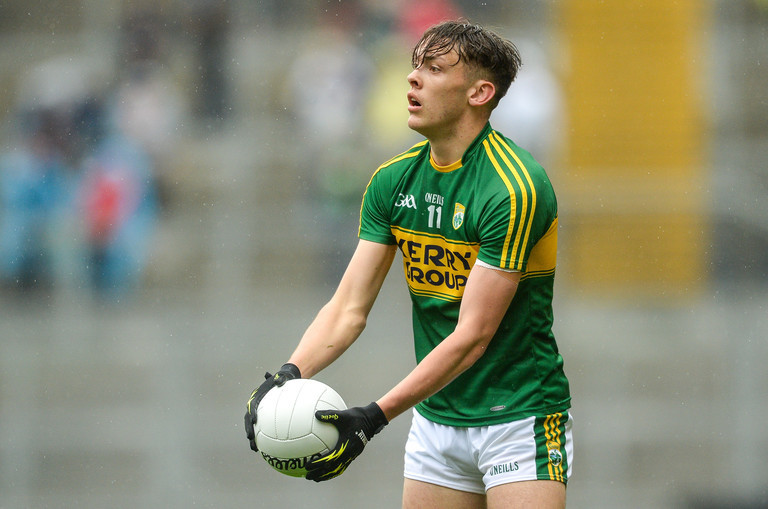ball: (257, 373, 344, 484)
player: (315, 5, 590, 496)
